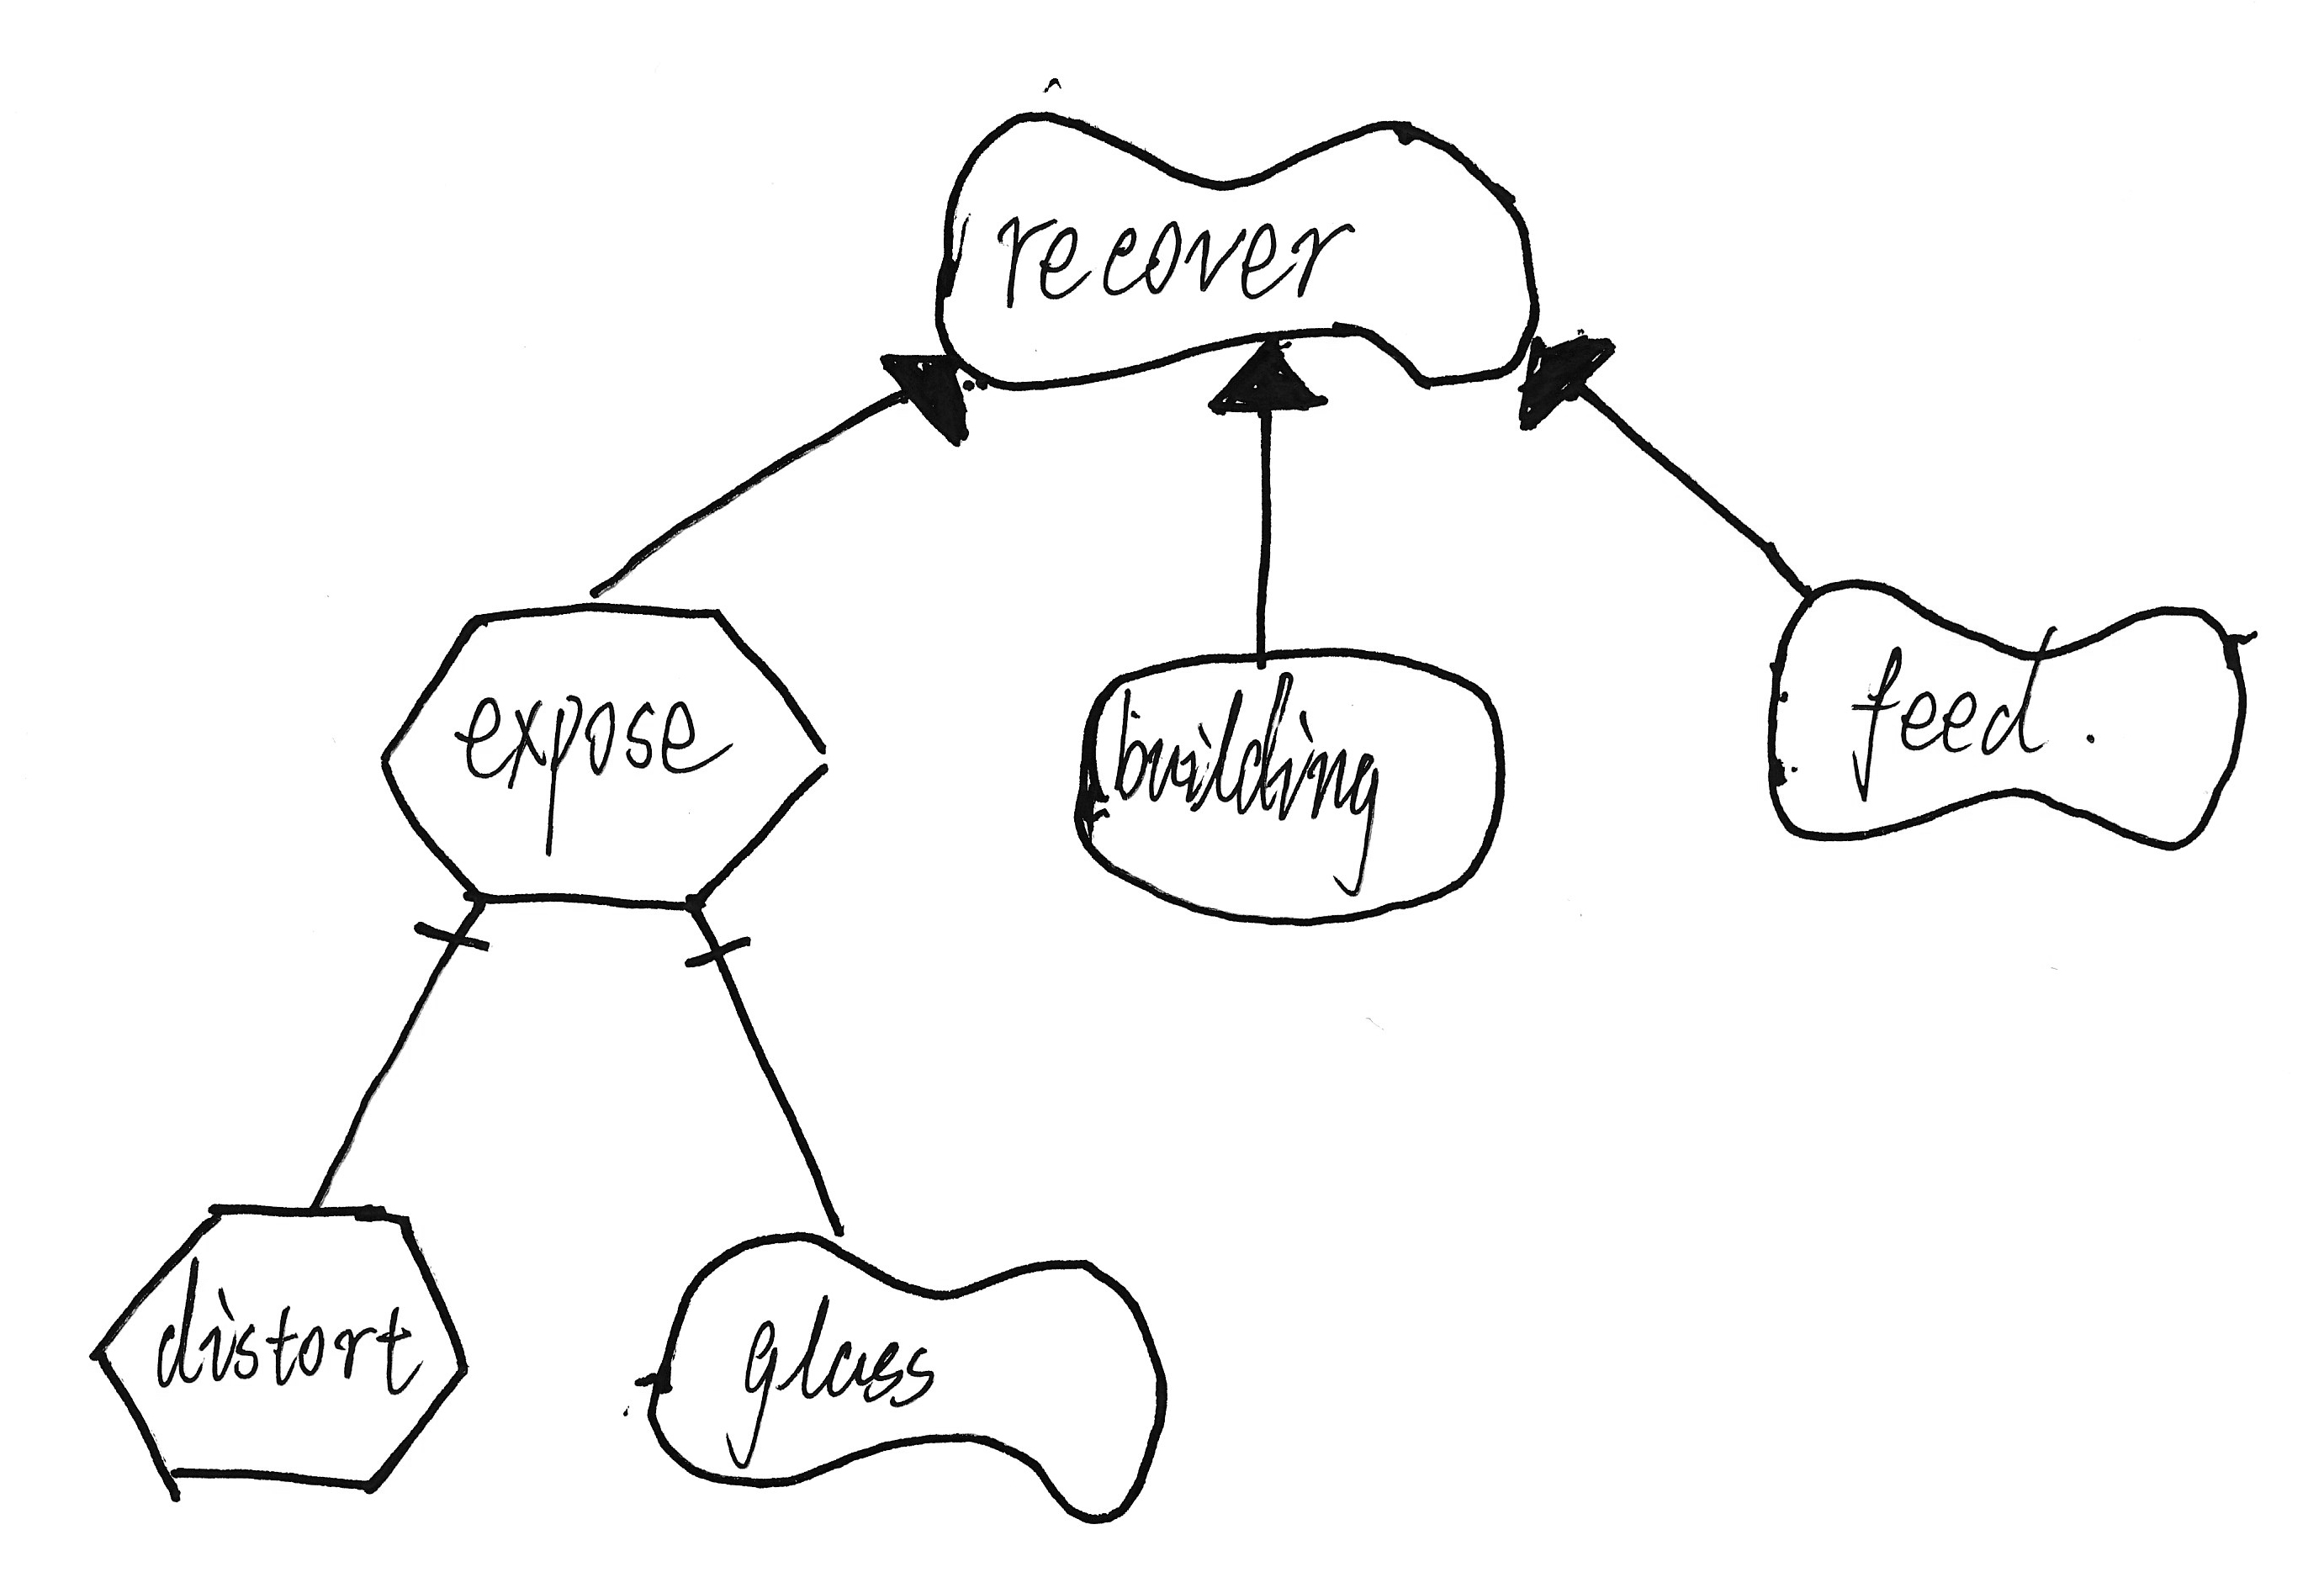and: (394, 899, 514, 994), (664, 915, 770, 991)
goal: (1058, 631, 1522, 941)
or: (1192, 327, 1339, 438), (1498, 323, 1628, 447), (871, 336, 980, 470)
quality: (917, 83, 1551, 419), (618, 1215, 1187, 1540), (1747, 558, 2275, 867)
task: (358, 585, 848, 929), (67, 1187, 486, 1523)
